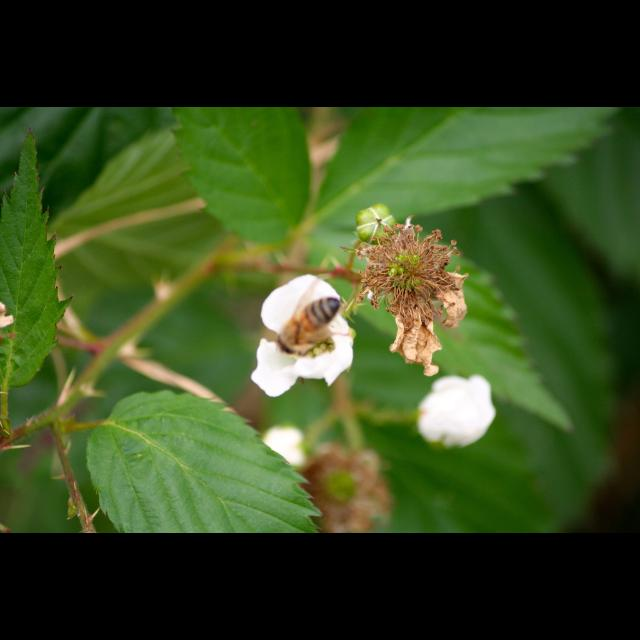Flower: (250, 258, 356, 394), (414, 374, 496, 450), (262, 420, 304, 468)
